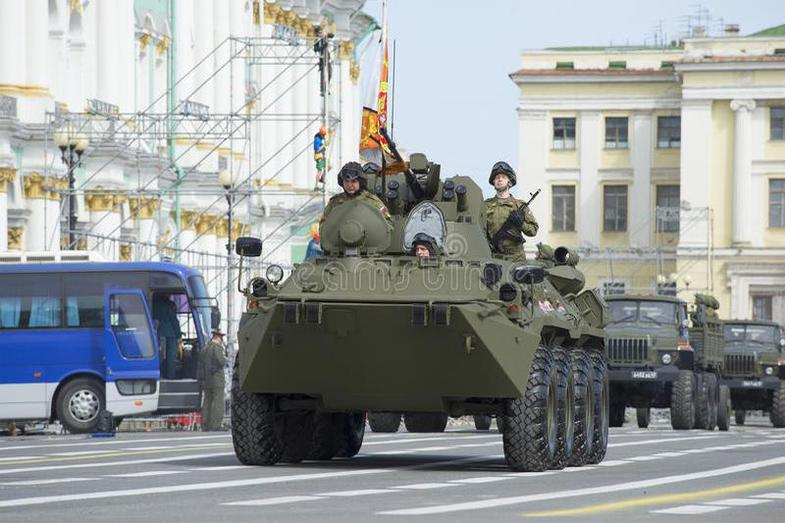btr: (228, 224, 611, 474)
